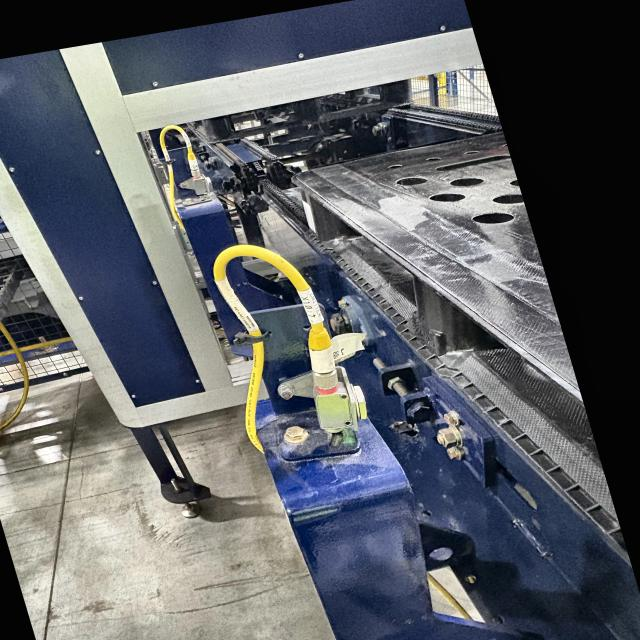igps: (284, 116, 640, 579)
